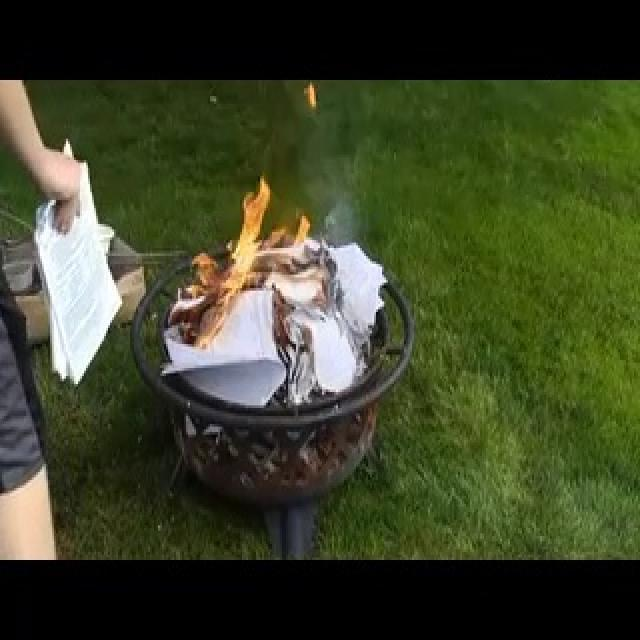fire: (163, 156, 289, 359)
